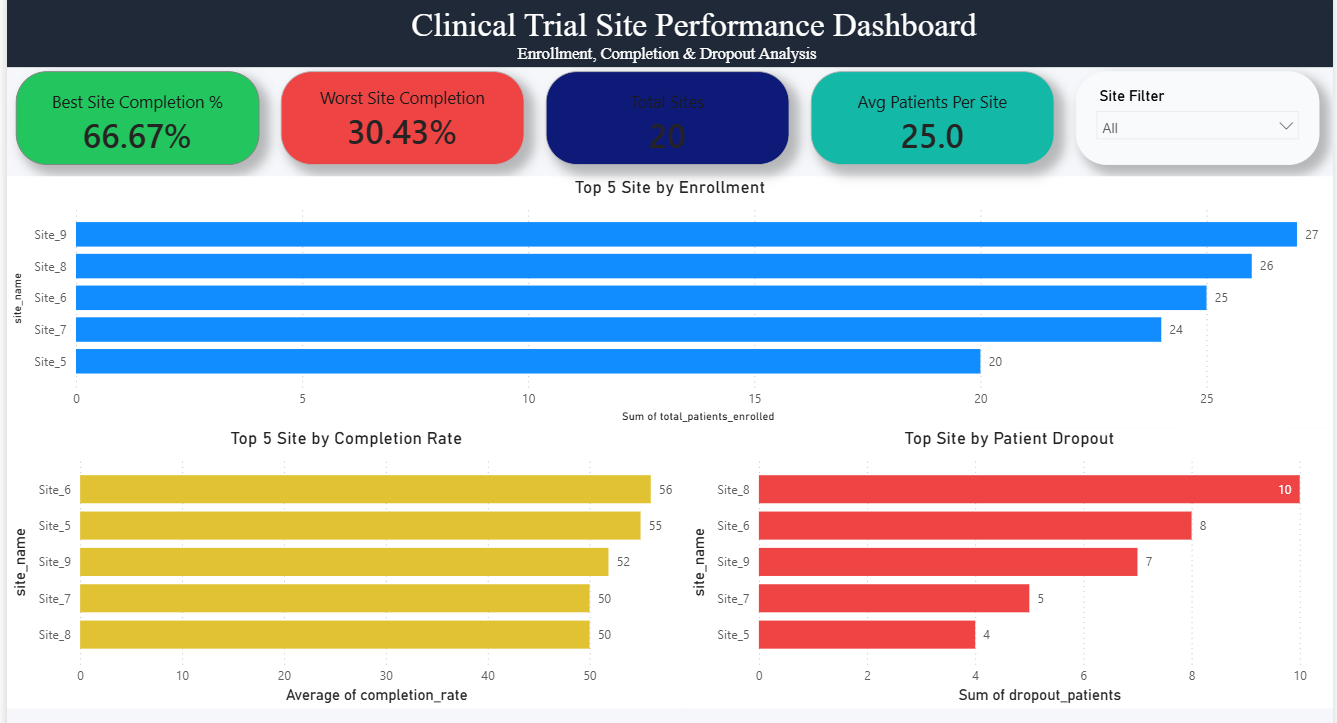

This screenshot's page, from the dashboard's own definition file:
{"tool":"powerbi","page":{"name":"Site Performance","canvas":[1280,720],"ordinal":1},"visuals":[{"type":"cardVisual","fields":{"Data":["best_drug_with_low_safety.Best Site Completion %"]},"box":[8,73.6,235,90.5],"z":0},{"type":"cardVisual","fields":{"Data":["best_drug_with_low_safety.Worst Site Completion"]},"box":[263.7,73.6,235.3,90.5],"z":1000},{"type":"slicer","title":"Top Site by Completion Rate","fields":{"Values":["site_performance_analysis.site_name"]},"box":[1031.5,73.6,235.3,90.5],"z":2000},{"type":"barChart","title":"Top 5 Site by Enrollment","fields":{"Category":["site_performance_analysis.site_name"],"Y":["Sum(site_performance_analysis.total_patients_enrolled)"]},"box":[0,174.9,1280,242.5],"z":3000},{"type":"barChart","title":"Top Site by Patient Dropout","fields":{"Category":["site_performance_analysis.site_name"],"Y":["Sum(site_performance_analysis.dropout_patients)"]},"box":[655.1,417.4,624.9,271.4],"z":4000},{"type":"textbox","box":[0,5,1280,65],"z":5000},{"type":"barChart","title":"Top 5 Site by Completion Rate","fields":{"Category":["site_performance_analysis.site_name"],"Y":["Avg(site_performance_analysis.completion_rate)"]},"box":[0,417.4,655.1,271.4],"z":6000},{"type":"cardVisual","fields":{"Data":["best_drug_with_low_safety.Total Sites"]},"box":[519.8,73.6,235.3,90.5],"z":7000},{"type":"cardVisual","fields":{"Data":["best_drug_with_low_safety.Avg Patients Per Site"]},"box":[775.8,73.6,235,90.5],"z":8000}]}

Visuals, with their boxes on the page's 1280x720 design canvas (x1, y1, x2, y2). These are canvas units, not pixel positions in the 1337x723 screenshot, which may show the page scaled, cropped or inside an application window:
cardVisual - best_drug_with_low_safety.Best Site Completion %: (8, 74, 243, 164)
cardVisual - best_drug_with_low_safety.Worst Site Completion: (264, 74, 499, 164)
"Top Site by Completion Rate" slicer: (1032, 74, 1267, 164)
"Top 5 Site by Enrollment" barChart: (0, 175, 1280, 417)
"Top Site by Patient Dropout" barChart: (655, 417, 1280, 689)
textbox: (0, 5, 1280, 70)
"Top 5 Site by Completion Rate" barChart: (0, 417, 655, 689)
cardVisual - best_drug_with_low_safety.Total Sites: (520, 74, 755, 164)
cardVisual - best_drug_with_low_safety.Avg Patients Per Site: (776, 74, 1011, 164)
